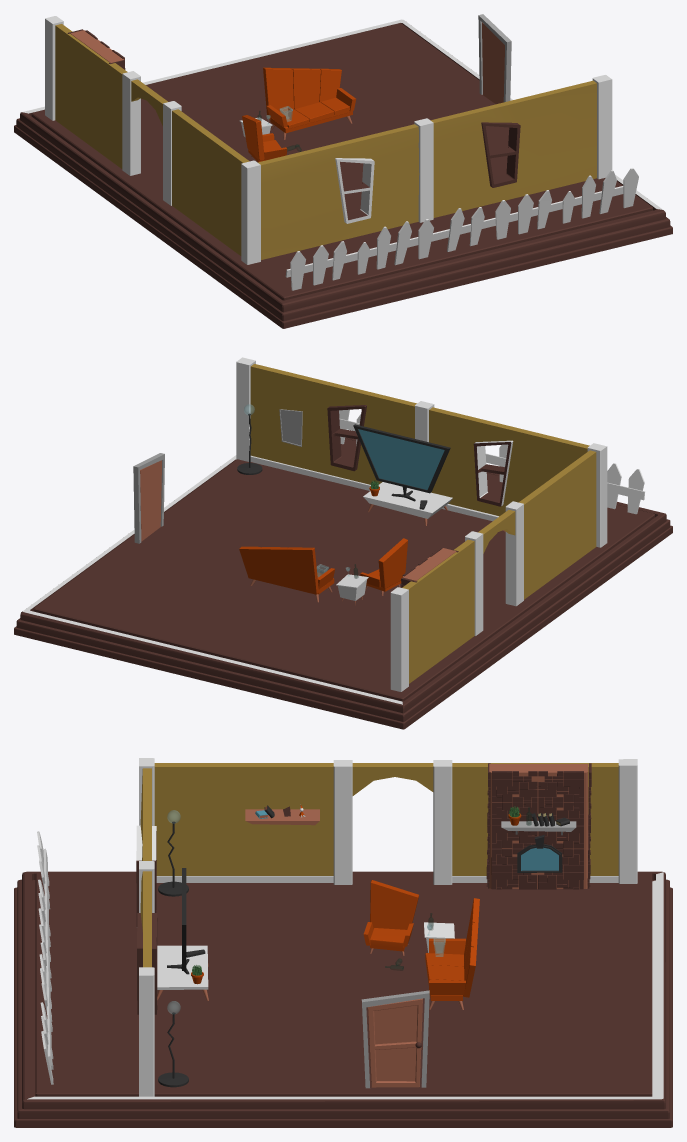
File: SALON.fbx
3 views of the same model, one above another, from view 1: azimuth 30°, elevation 25°; view 2: azimuth 150°, elevation 25°; view 3: azimuth 270°, elevation 25° (orthographic). The views are drawn at different scales.
Visible parts, largest first — view 1: pCube53, pCube54, pCube118, pCube73, polySurface475, polySurface481, pCube76, polySurface480, pCube108; view 2: pCube53, pCube54, pCube118, polySurface475, pCube77, pCube73, polySurface52, polySurface481, pCube76, polySurface480, pCube107, polySurface467 (+1 smaller); view 3: pCube53, pCube54, pCube118, haute_plateforme_stone, polySurface475, polySurface481, pCube108, pCube73, polySurface52, polySurface480, pCube129, polySurface46 (+3 smaller).
Boxes of the visible parts, x1=… form: pCube53: x1=14, y1=19, x2=672, y2=328; pCube54: x1=55, y1=24, x2=596, y2=259; pCube118: x1=45, y1=16, x2=612, y2=264; pCube73: x1=285, y1=168, x2=638, y2=290; polySurface475: x1=242, y1=67, x2=356, y2=162; polySurface481: x1=482, y1=22, x2=504, y2=104; pCube76: x1=481, y1=122, x2=520, y2=187; polySurface480: x1=478, y1=14, x2=511, y2=102; pCube108: x1=70, y1=30, x2=124, y2=62; pCube53: x1=14, y1=437, x2=672, y2=729; pCube54: x1=250, y1=364, x2=596, y2=683; pCube118: x1=236, y1=357, x2=607, y2=691; polySurface475: x1=239, y1=538, x2=407, y2=594; pCube77: x1=353, y1=424, x2=450, y2=495; pCube73: x1=339, y1=409, x2=644, y2=514; polySurface52: x1=363, y1=482, x2=452, y2=518; polySurface481: x1=140, y1=460, x2=161, y2=541; pCube76: x1=327, y1=405, x2=366, y2=471; polySurface480: x1=133, y1=453, x2=164, y2=543; pCube107: x1=279, y1=409, x2=302, y2=446; polySurface467: x1=336, y1=574, x2=368, y2=600; pCube53: x1=14, y1=871, x2=672, y2=1127; pCube54: x1=140, y1=763, x2=618, y2=967; pCube118: x1=136, y1=758, x2=637, y2=1096; haute_plateforme_stone: x1=486, y1=763, x2=591, y2=889; polySurface475: x1=363, y1=880, x2=479, y2=1000; polySurface481: x1=367, y1=998, x2=422, y2=1087; pCube108: x1=489, y1=764, x2=588, y2=888; pCube73: x1=37, y1=831, x2=53, y2=1084; polySurface52: x1=157, y1=945, x2=208, y2=989; polySurface480: x1=361, y1=990, x2=429, y2=1088; pCube129: x1=517, y1=835, x2=562, y2=872; polySurface46: x1=245, y1=809, x2=319, y2=825.
Size of what is drawn, in the model's own units: 1546 by 452 by 1849.
